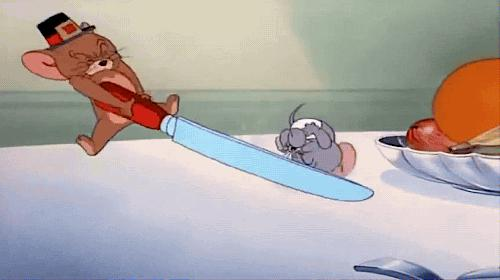jerry: (21, 11, 181, 160)
